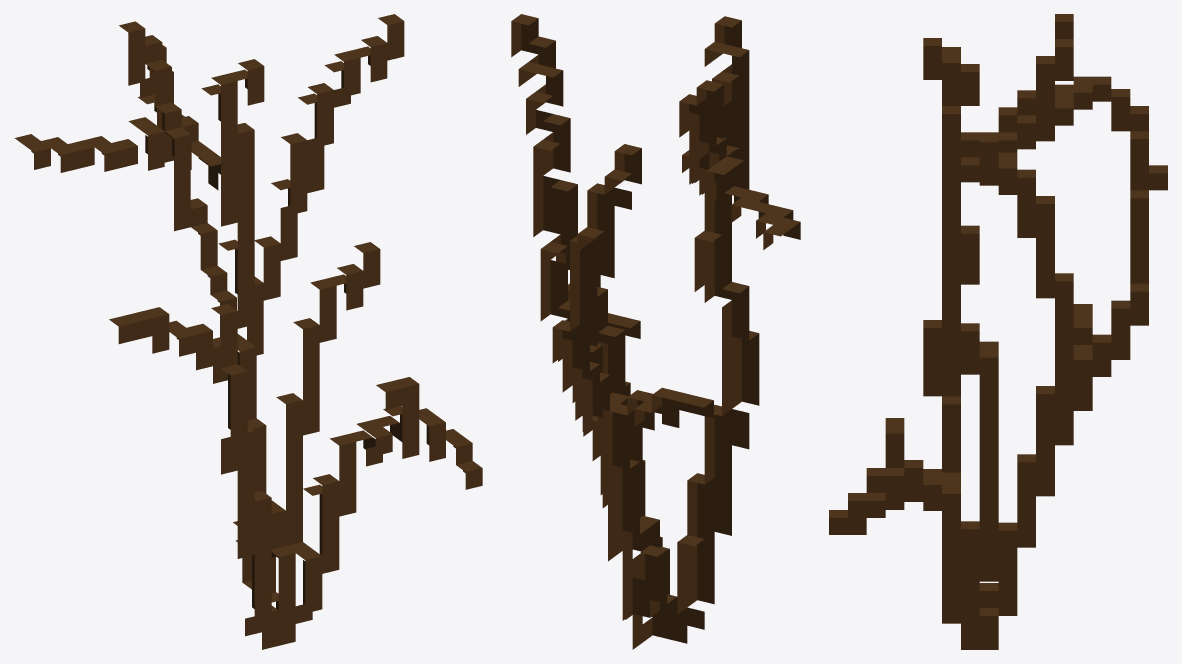
Rendered from Bush_to_Unity.fbx.
3 views of the same model, side by side, from view 1: azimuth 30°, elevation 25°; view 2: azimuth 150°, elevation 25°; view 3: azimuth 270°, elevation 25° (orthographic). The views are drawn at different scales.
Parts seen in each view (by area): view 1: Bush; view 2: Bush; view 3: Bush.
Part boxes in pixels (x1=…): Bush: x1=14, y1=14, x2=482, y2=649; Bush: x1=511, y1=14, x2=800, y2=649; Bush: x1=829, y1=14, x2=1167, y2=649.
Bounding box in the file's own units: 129 × 232 × 123.
